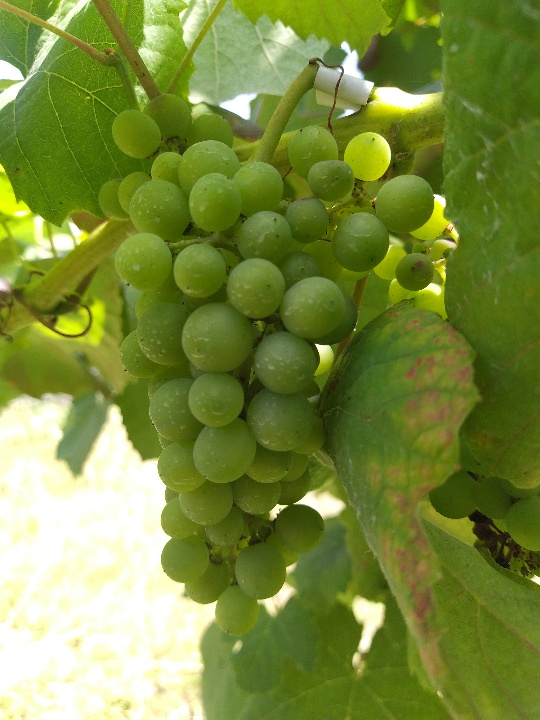grape: (95, 91, 449, 641)
